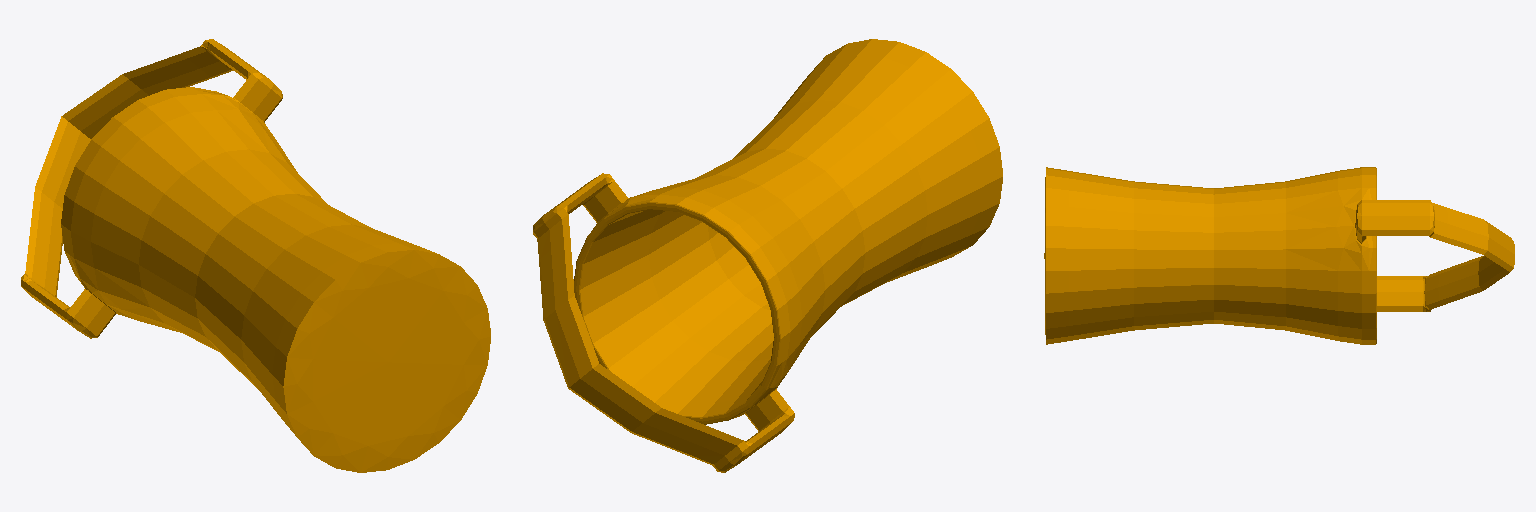
robot.urdf — 153:
<?xml version="1.0" ?>
<robot name="153">
  <link name="body">
    <visual>
      <geometry>
        <mesh filename="../shapes/153.obj"/>
      </geometry>
    </visual>
    <collision>
      <geometry>
        <mesh filename="../shapes/153.obj"/>
      </geometry>
    </collision>
  </link>
</robot>

--- What the picture shows (computed from the rendered views, not written in the file) ---
The picture shows the robot from 3 angles, left to right: view 1: azimuth 30°, elevation 25°; view 2: azimuth 150°, elevation 25°; view 3: azimuth 270°, elevation 25°; orthographic projection.
Robot: 153 — 1 links, 0 joints (none); root link body; default pose: all joints at 0.
Links seen in each view (by area): view 1: body; view 2: body; view 3: body.
Boxes of the visible links, x1,y1,x2,y2 form: body: [21, 39, 490, 472]; body: [533, 39, 1002, 472]; body: [1044, 167, 1514, 344].
Size in the robot's own frame: 1.88 by 4.79 by 1.88 metres.
Meshes: 1 distinct files referenced, 1 mesh visuals loaded (1 OBJ).